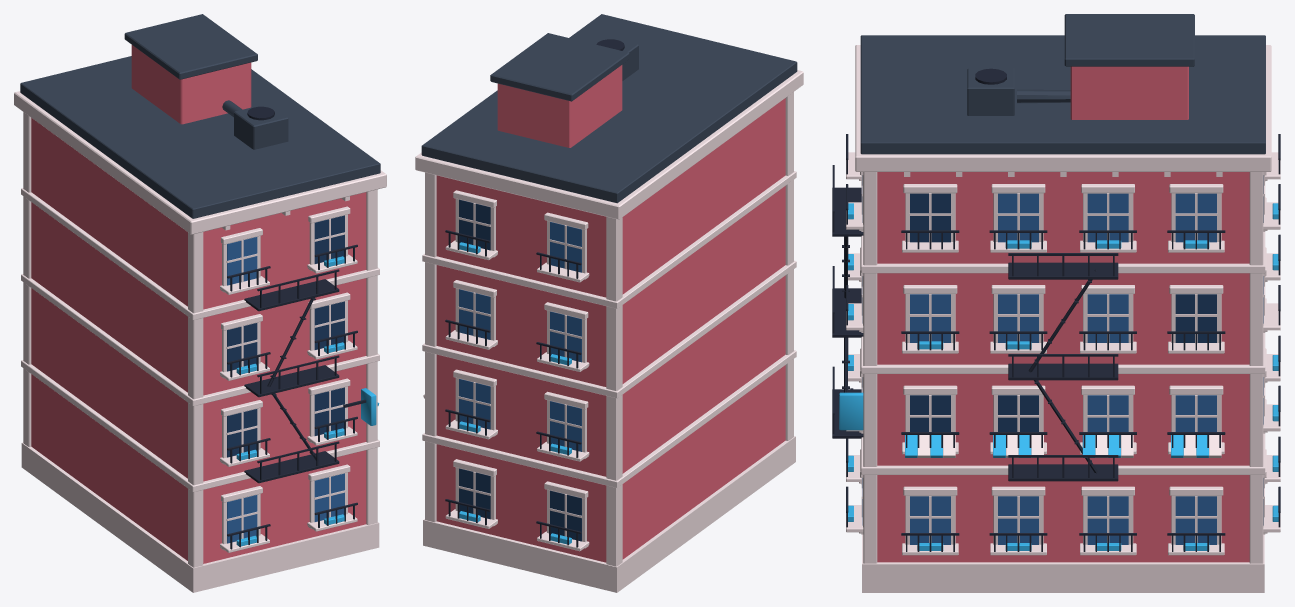
Rendered from edificio_3.glb.
The picture shows the model from 3 angles, left to right: view 1: azimuth 30°, elevation 25°; view 2: azimuth 150°, elevation 25°; view 3: azimuth 270°, elevation 25°; orthographic projection. The views are drawn at different scales.
Parts seen in each view (by area): view 1: Edificio_3_Coral; view 2: Edificio_3_Coral; view 3: Edificio_3_Coral.
Boxes of the visible parts, box(x1,y1,x2,y2) form: Edificio_3_Coral: box(14, 14, 386, 592); Edificio_3_Coral: box(415, 14, 803, 592); Edificio_3_Coral: box(832, 14, 1280, 592).
Size of the model in its own units: 9.99 by 19.64 by 15.51.
